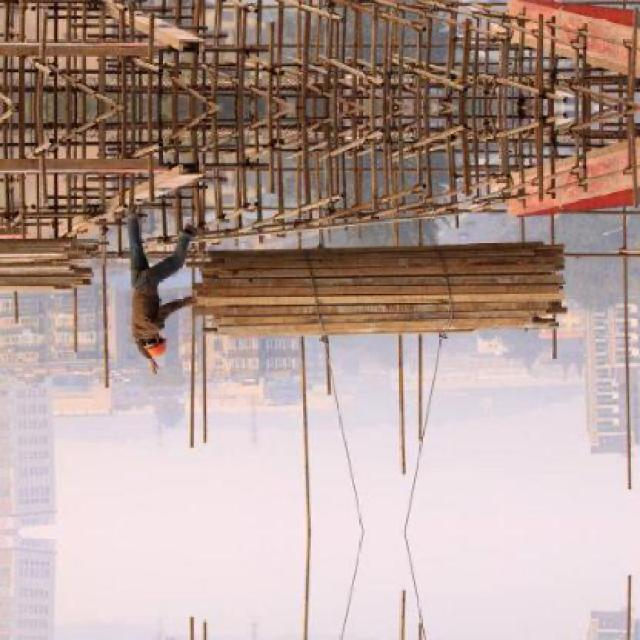con casco: (133, 318, 178, 362)
